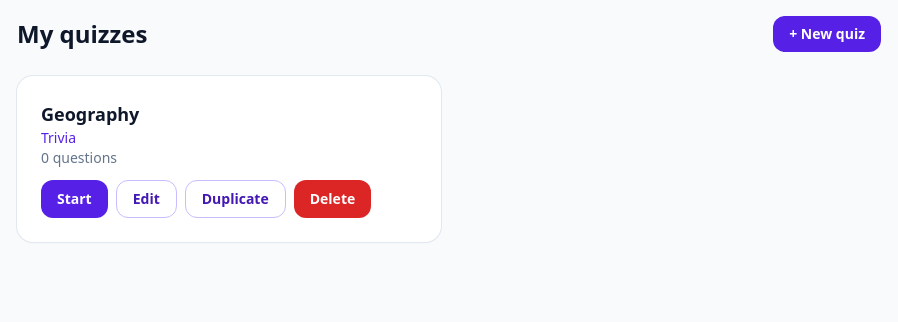
it: Dashboard page › refuses to start a quiz with no questions without contacting the server
Click the button "Start" at [74, 199], box [41,180,108,218]
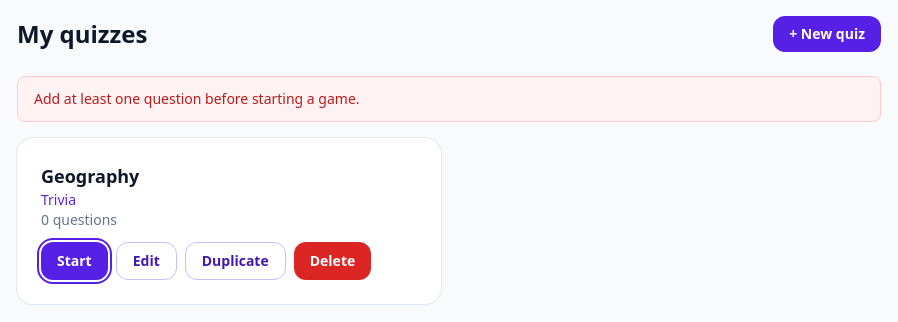
Result: the message shows "at least one question" at [34,89,360,108]
